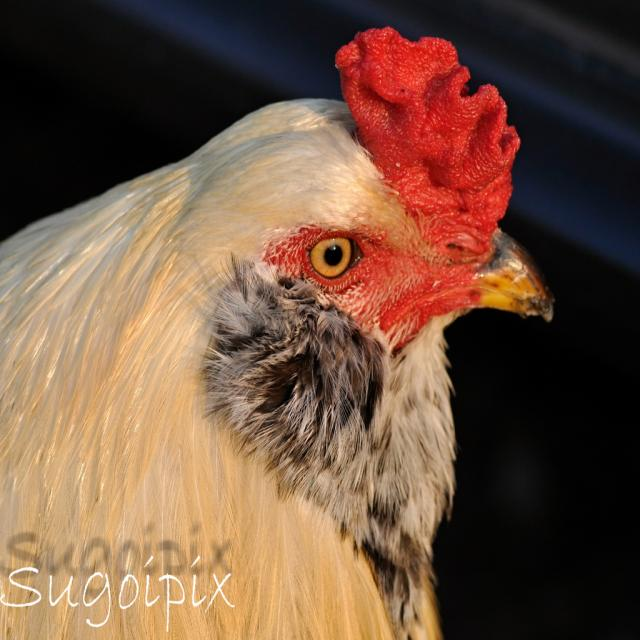Chicken: (0, 26, 556, 640)
